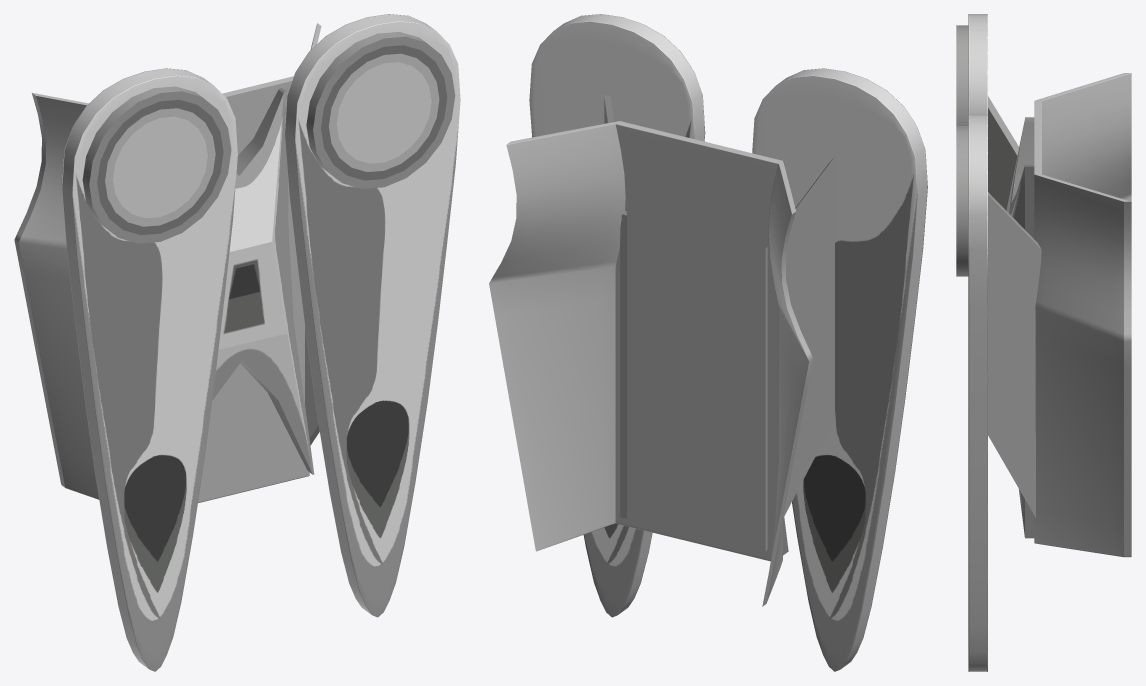
Rendered from Jet-Pakmaster-V01.fbx.
The picture shows the model from 3 angles, left to right: view 1: azimuth 30°, elevation 25°; view 2: azimuth 150°, elevation 25°; view 3: azimuth 270°, elevation 25°; orthographic projection. The views are drawn at different scales.
Parts seen in each view (by area): view 1: pasted__pCube1, pCube1, pCube4, pCube3, pasted__pCylinder1, pCylinder1, pCube5; view 2: pCube4, pasted__pCube1, pCube1, pasted__pCube5, pCube5; view 3: pCube4, pCube5, pCube1, pCube3, pasted__pCube5, pasted__pCube1, pCylinder1, pasted__pCylinder1.
Part boxes in pixels (x1,y1,x2,y2): pasted__pCube1: (62, 68, 237, 671); pCube1: (284, 14, 460, 617); pCube4: (14, 23, 321, 502); pCube3: (212, 88, 314, 474); pasted__pCylinder1: (82, 86, 231, 243); pCylinder1: (306, 32, 455, 188); pCube5: (305, 327, 319, 445); pCube4: (489, 121, 813, 606); pasted__pCube1: (752, 68, 927, 671); pCube1: (529, 14, 705, 617); pasted__pCube5: (765, 156, 834, 551); pCube5: (604, 95, 626, 518); pCube4: (1034, 73, 1131, 557); pCube5: (988, 192, 1041, 517); pCube1: (968, 114, 987, 671); pCube3: (1006, 117, 1034, 538); pasted__pCube5: (988, 96, 1019, 210); pasted__pCube1: (968, 14, 987, 114); pCylinder1: (956, 126, 968, 276); pasted__pCylinder1: (956, 25, 968, 125).
Size of the model in its own units: 4.64 by 6.77 by 1.97.
13 materials, 3 textured.
